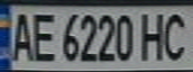0: (115, 10, 139, 62)
2: (78, 10, 100, 63), (97, 10, 118, 63)
6: (57, 9, 81, 63)
A: (6, 8, 36, 62)
C: (157, 8, 193, 61)
E: (27, 8, 60, 63)
H: (139, 9, 172, 62)
